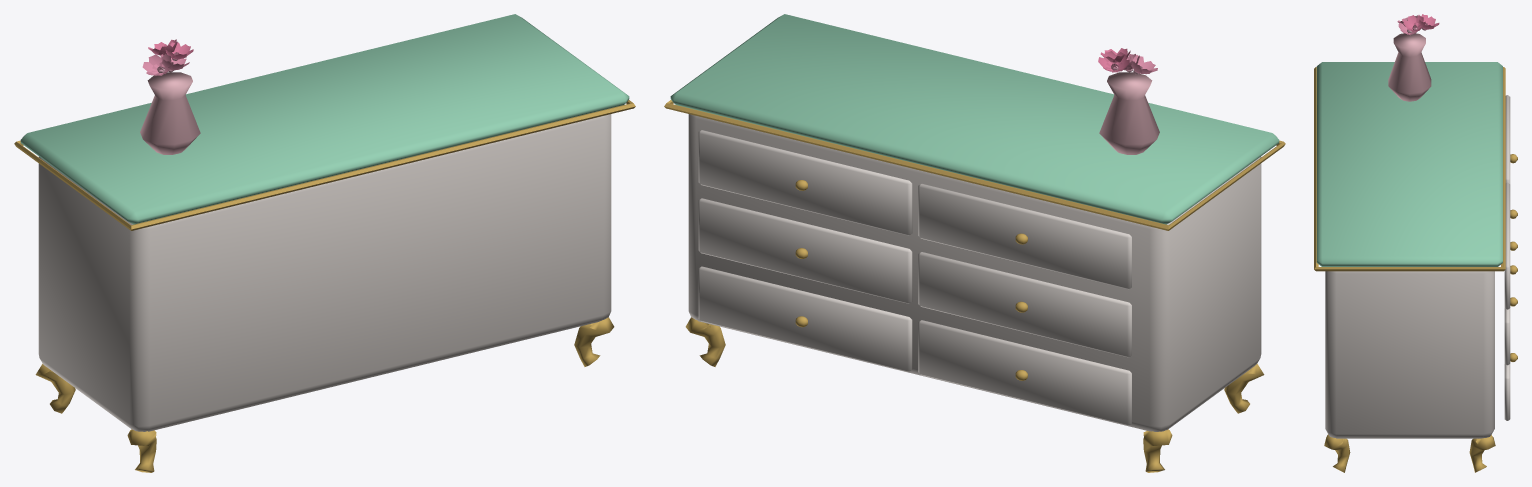
The model's file is dresser.glb.
The picture shows the model from 3 angles, left to right: view 1: azimuth 30°, elevation 25°; view 2: azimuth 150°, elevation 25°; view 3: azimuth 270°, elevation 25°; orthographic projection. The views are drawn at different scales.
Parts seen in each view (by area): view 1: dresser; view 2: dresser; view 3: dresser.
Boxes of the visible parts, x1,y1,x2,y2 form: dresser: (14,14,635,472); dresser: (664,14,1285,472); dresser: (1314,14,1517,472).
Size of what is drawn, in the model's own units: 1.4 by 1 by 0.6.
